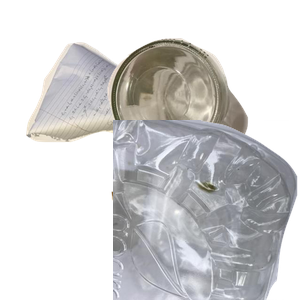glass: (105, 36, 300, 201)
paper: (23, 40, 223, 180)
plastic: (113, 120, 300, 300)
trash: (109, 175, 279, 300)
